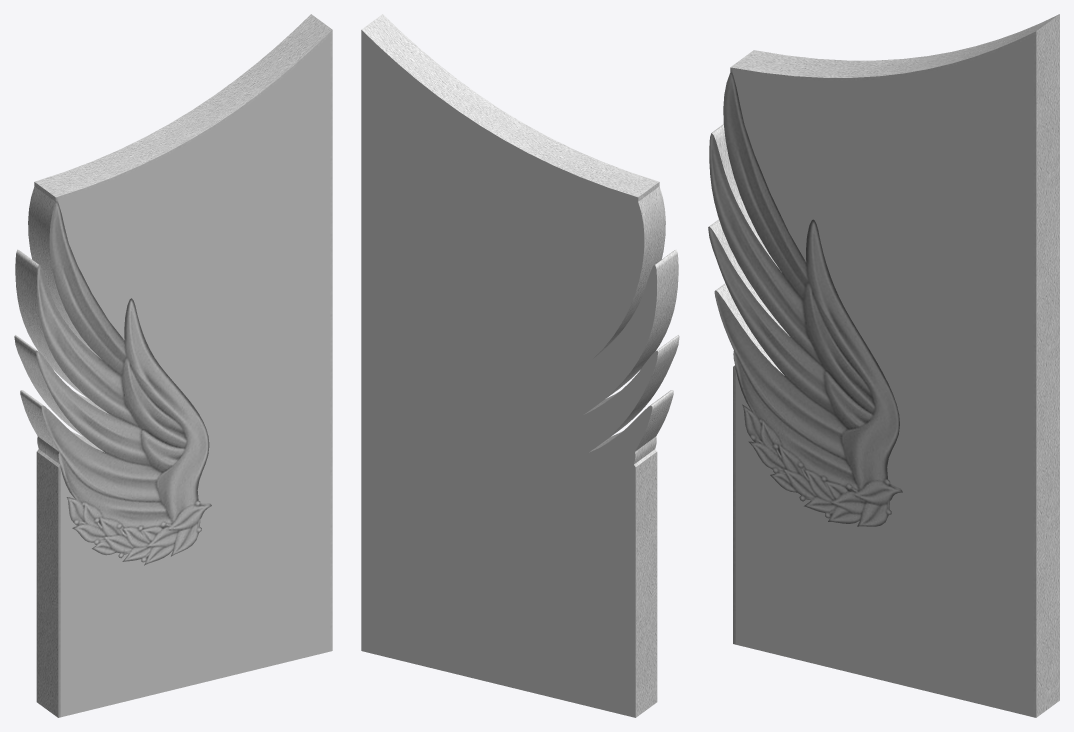
Rendered from cn88c0fa615f_tkf.glb.
3 views of the same model, side by side, from view 1: azimuth 30°, elevation 25°; view 2: azimuth 150°, elevation 25°; view 3: azimuth 330°, elevation 25° (orthographic). The views are drawn at different scales.
Parts seen in each view (by area): view 1: Pam-d03-149, Pam-d03-149_2_notexture; view 2: Pam-d03-149, Pam-d03-149_2_notexture; view 3: Pam-d03-149, Pam-d03-149_2_notexture.
Boxes of the visible parts, x1=… form: Pam-d03-149: x1=58, y1=35, x2=330, y2=717; Pam-d03-149_2_notexture: x1=14, y1=14, x2=332, y2=717; Pam-d03-149: x1=361, y1=30, x2=658, y2=717; Pam-d03-149_2_notexture: x1=361, y1=14, x2=679, y2=717; Pam-d03-149: x1=733, y1=36, x2=1033, y2=716; Pam-d03-149_2_notexture: x1=708, y1=14, x2=1059, y2=717.
Bounding box in the file's own units: 0.4 × 0.8 × 0.05.
1 material, 1 textured.
